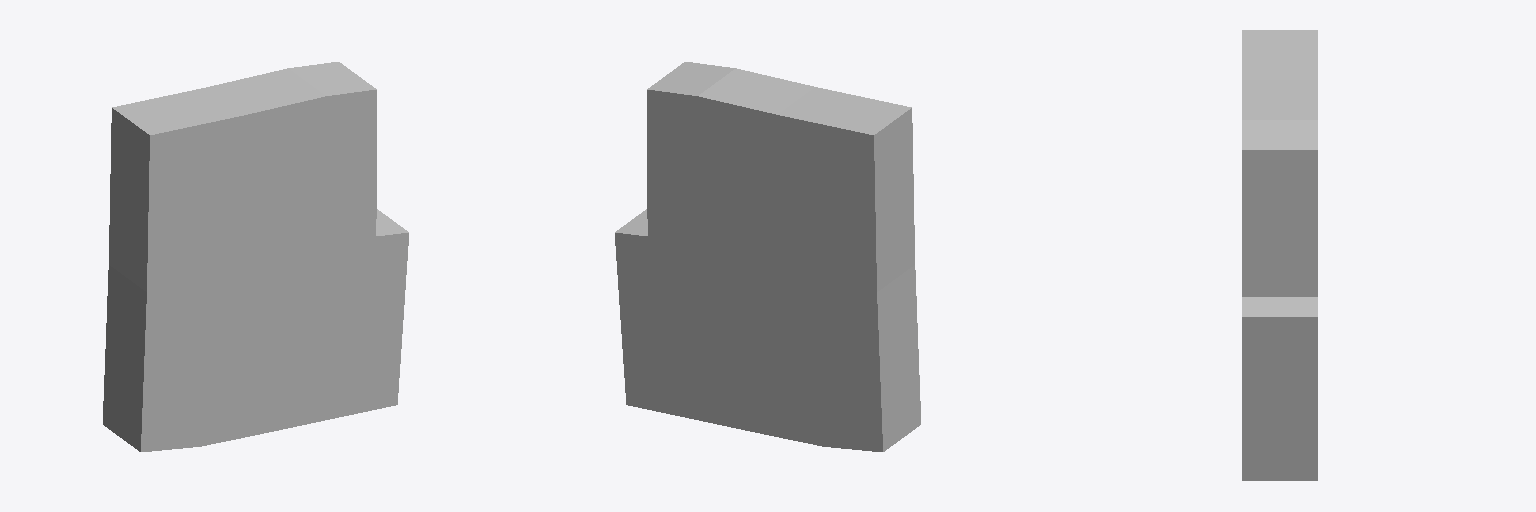
Rendered from lab_mesh_neg_x.obj.
3 renders of one model, left to right at view 1: azimuth 30°, elevation 25°; view 2: azimuth 150°, elevation 25°; view 3: azimuth 270°, elevation 25°, orthographic.
Parts seen in each view (by area): view 1: living_room, dining_room, bed_room_bedroom, kitchen, door, bath_room_bathroom; view 2: living_room, dining_room, bed_room_bedroom, kitchen, door, bath_room_bathroom; view 3: living_room, door, dining_room, kitchen.
Part boxes in pixels (x1,y1,x2,y2): living_room: (245,209,408,435); dining_room: (109,87,246,291); bed_room_bedroom: (103,265,200,451); kitchen: (209,68,325,266); door: (288,62,376,248); bath_room_bathroom: (200,267,253,446); living_room: (615,209,778,435); dining_room: (777,87,914,291); bed_room_bedroom: (823,265,920,451); kitchen: (698,68,814,266); door: (647,62,735,248); bath_room_bathroom: (770,267,823,446); living_room: (1242,297,1317,480); door: (1242,120,1317,296); dining_room: (1242,30,1317,79); kitchen: (1242,80,1317,119).
Bounding box in the file's own units: 7 × 8.22 × 1.72.